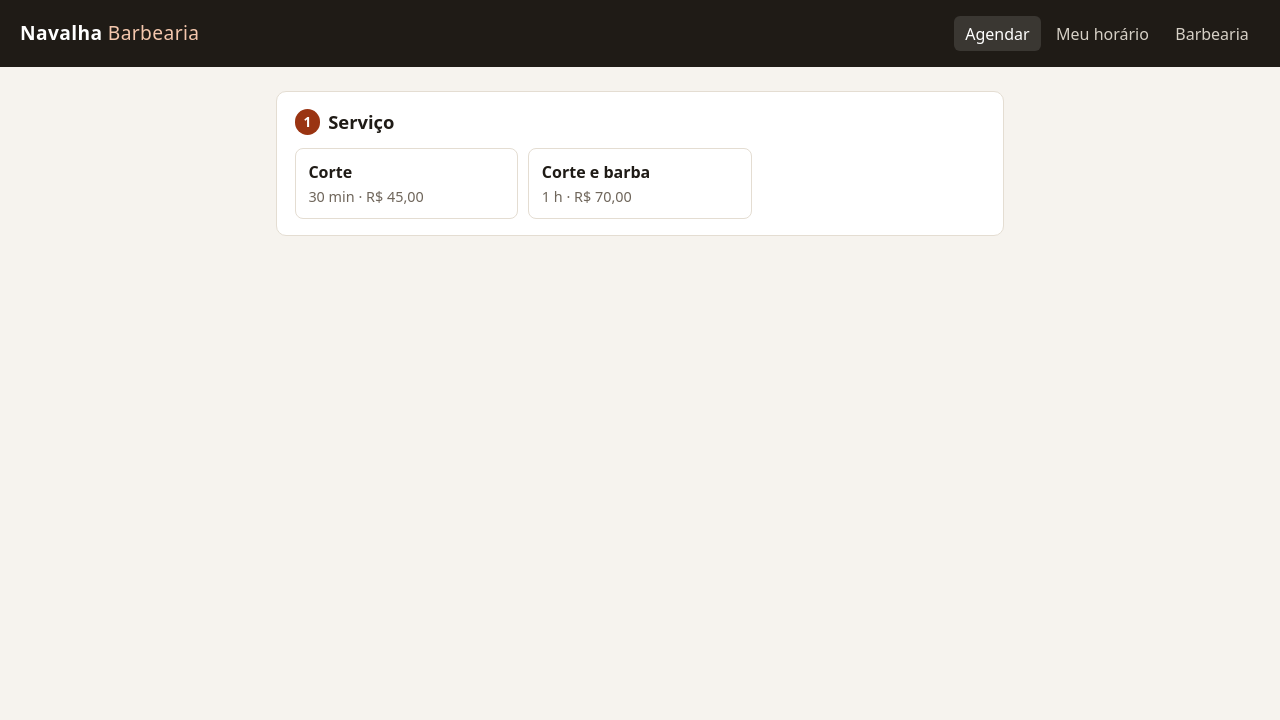
Test: marcar horário › passa pelas etapas e mostra o código no fim
Click the button "Corte 30 min · R$ 45,00" at (407, 184), box [295,148,518,219]
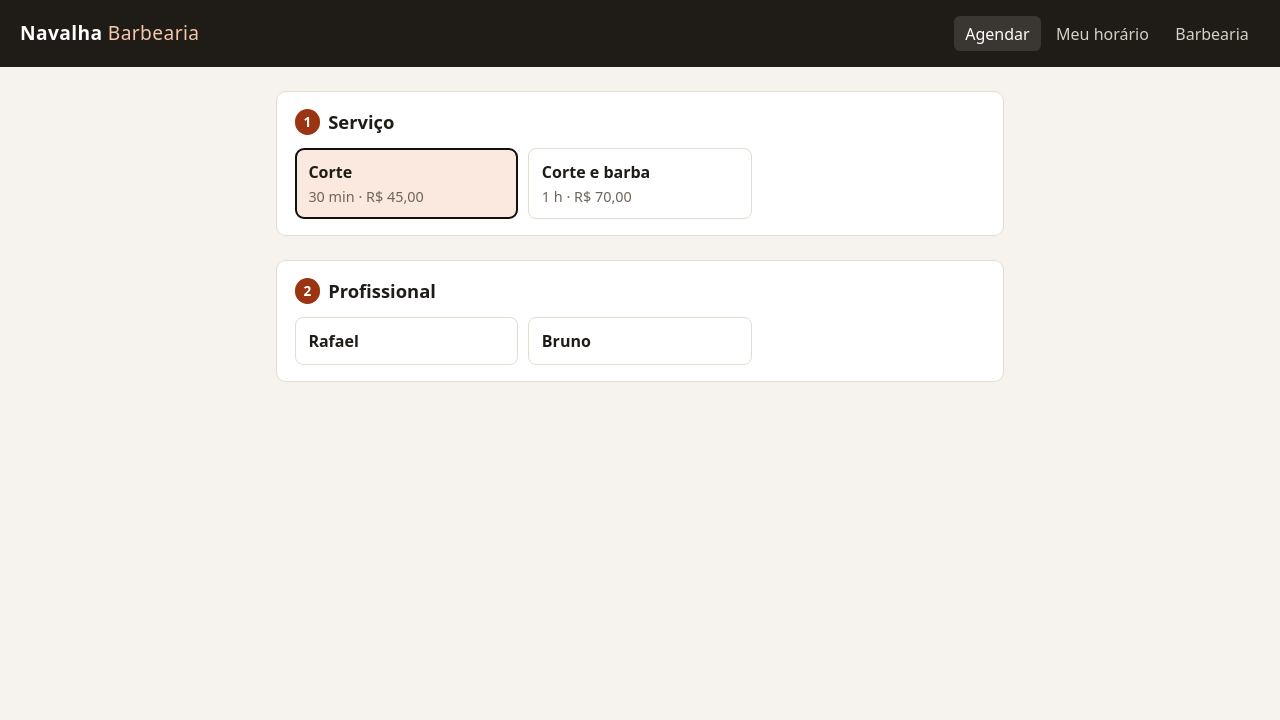
Click the button "Rafael" at (407, 341), box [295,317,518,365]
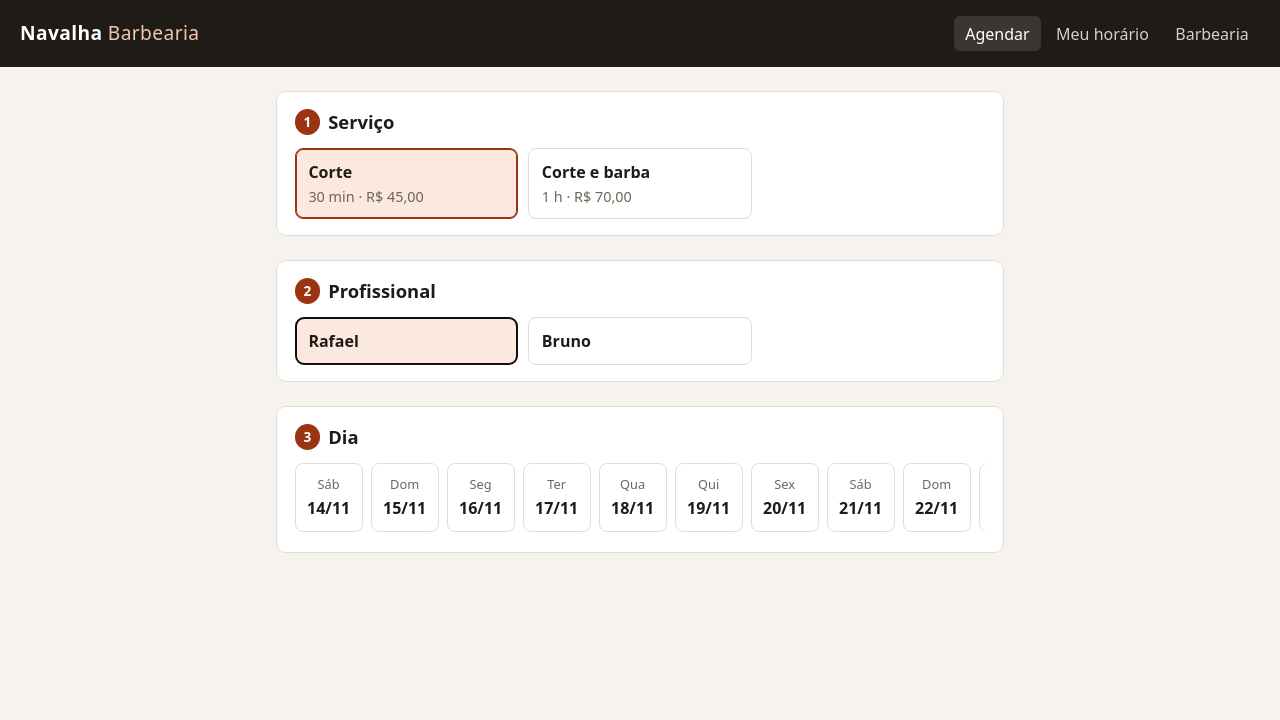
Click the button "dom 15/11" at (405, 498), box [371,463,439,532]
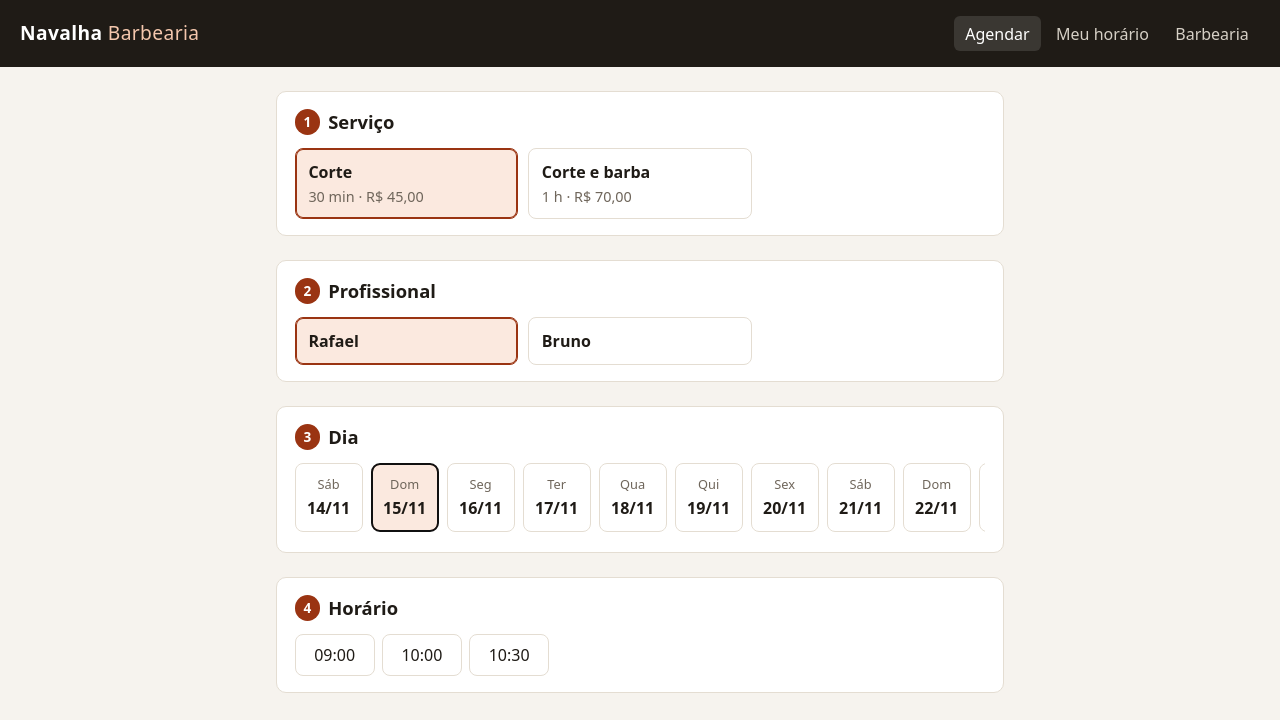
Click the button "10:00" at (422, 655), box [382,634,462,676]
(page scrolled)
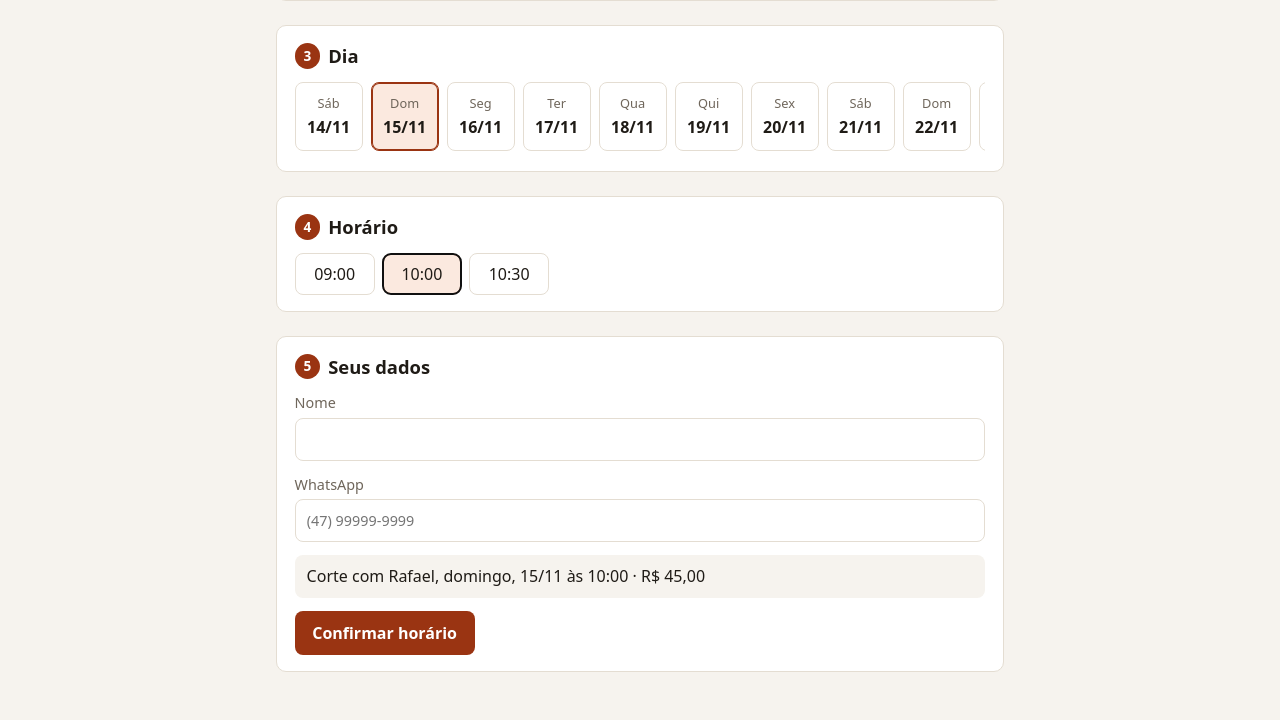
Type "Lobo" into the field labelled "Nome" at (640, 439), box [295,418,985,461]
Type "(47) 99999-1234" into the field labelled "WhatsApp" at (640, 520), box [295,499,985,542]
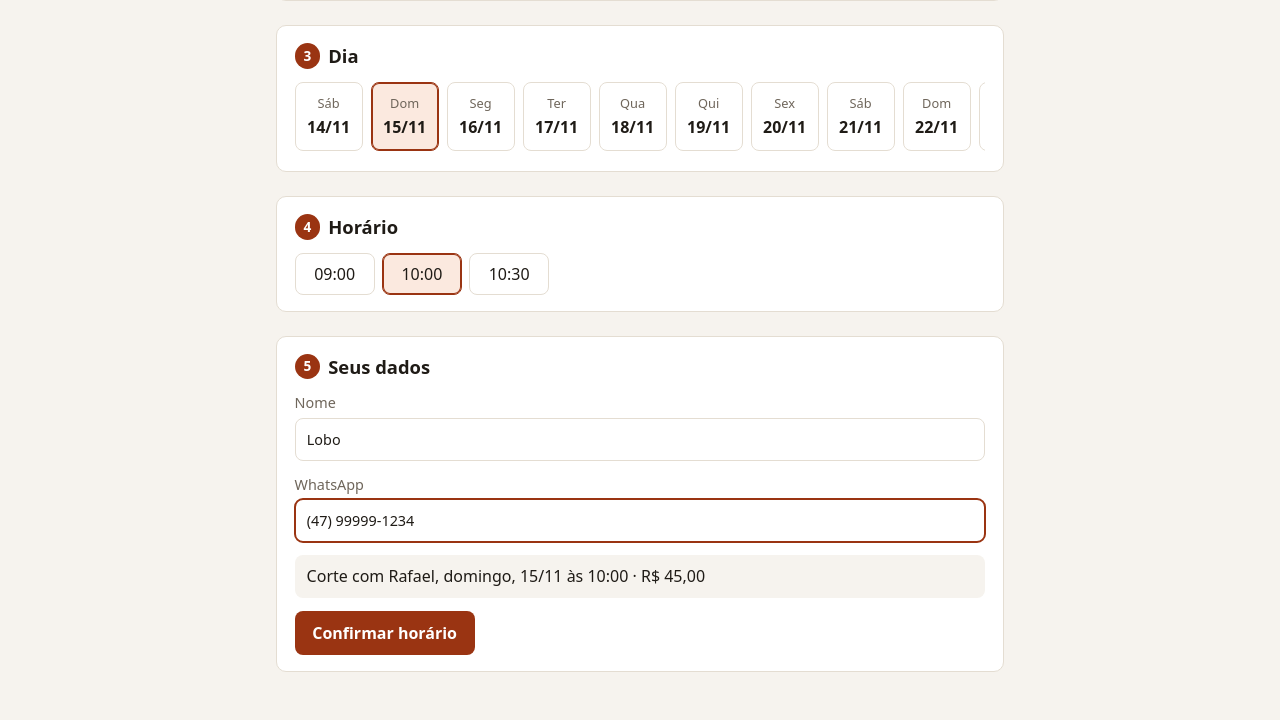
Click the button "Confirmar horário" at (385, 633), box [295,611,475,656]
(page scrolled)
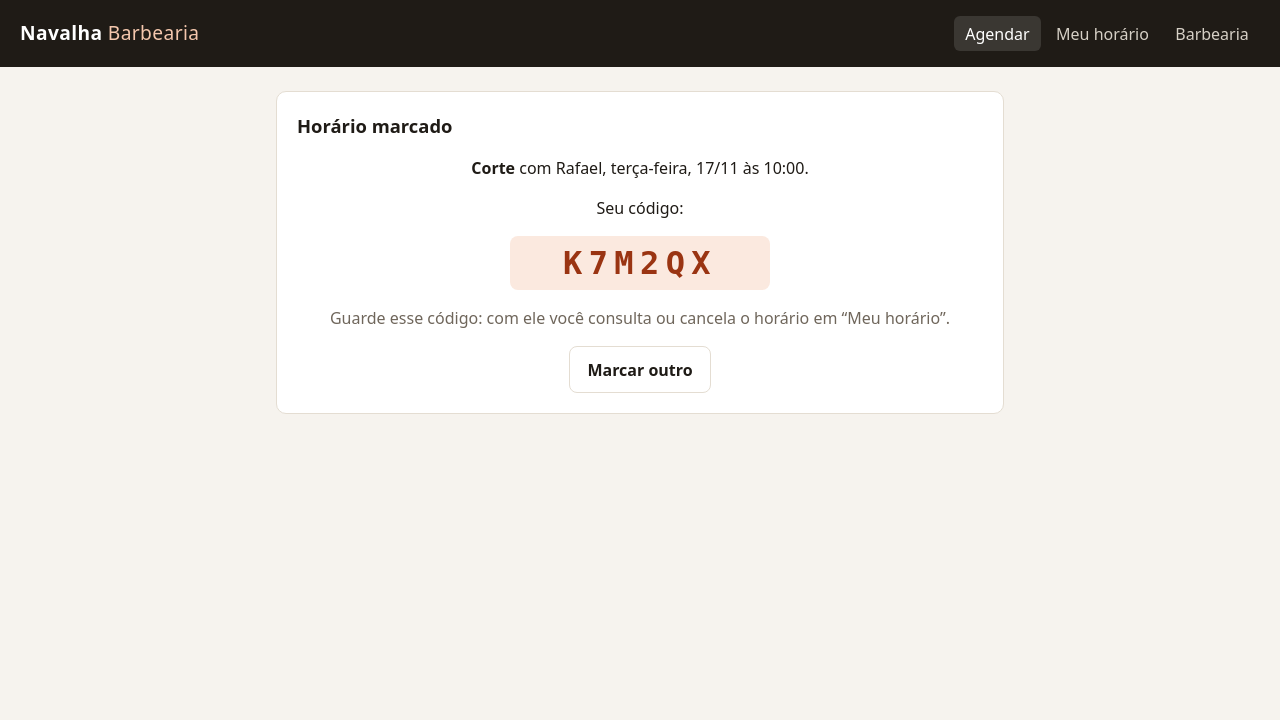
Check: the text "K7M2QX" is shown, box [510,236,770,290]
